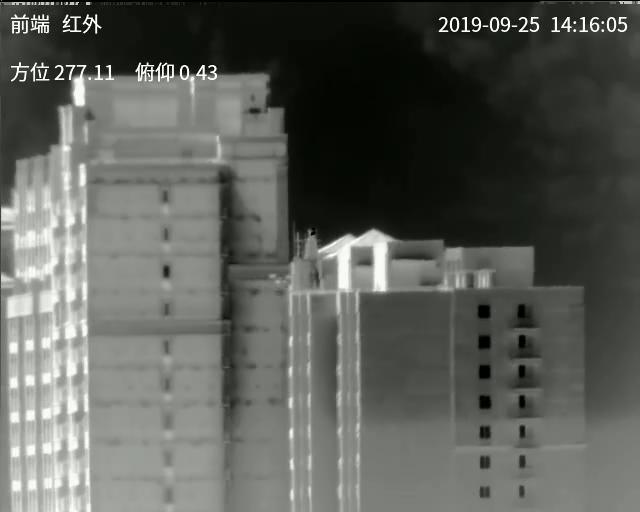uav: (269, 266, 293, 292)
